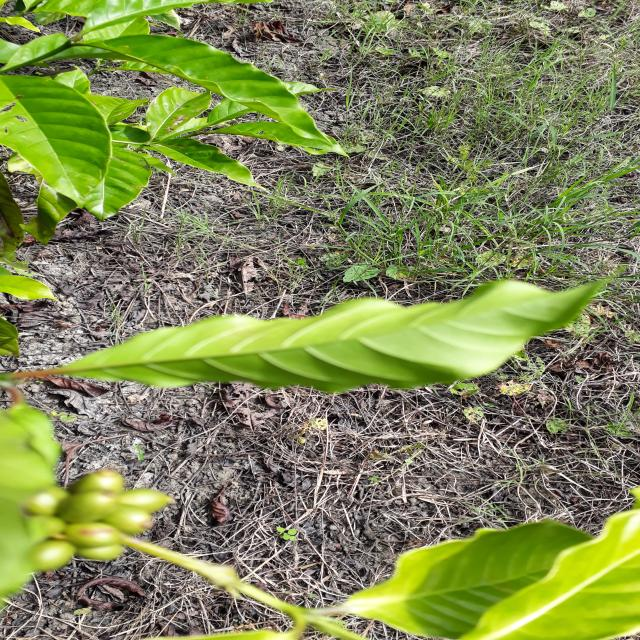Sanas: (17, 279, 610, 396)
